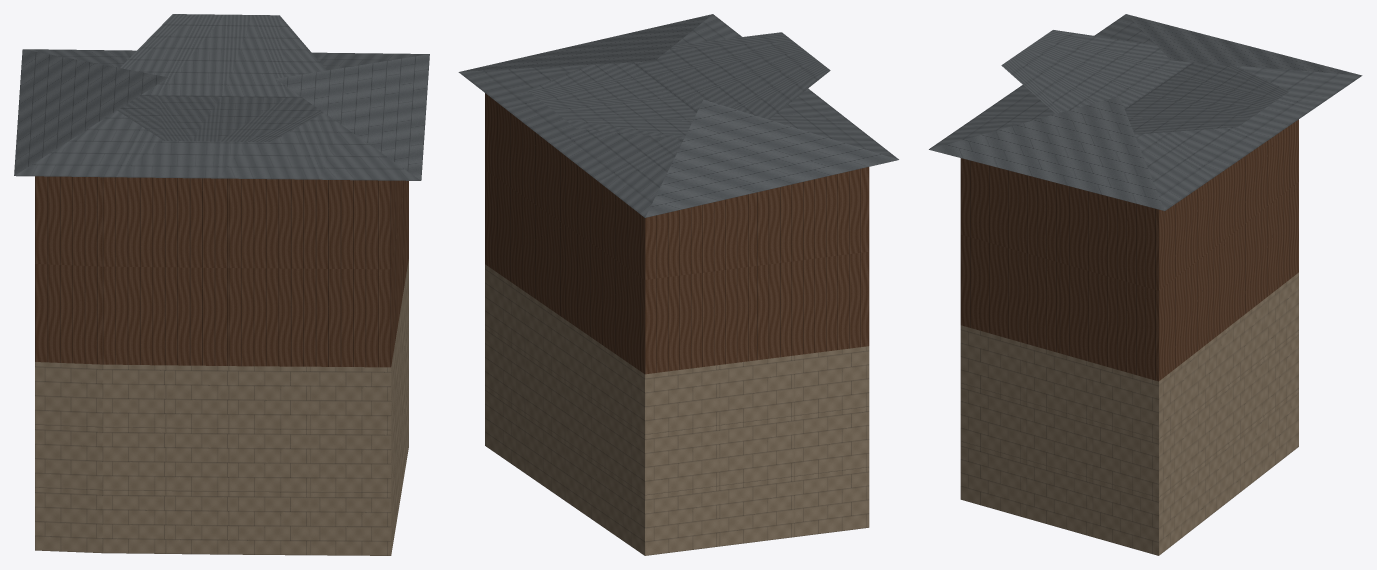
Rendered from bld_c42_31_269.gltf.
3 views of the same model, side by side, from view 1: azimuth 30°, elevation 25°; view 2: azimuth 150°, elevation 25°; view 3: azimuth 270°, elevation 25° (orthographic). The views are drawn at different scales.
Parts seen in each view (by area): view 1: bld_c42_31_269; view 2: bld_c42_31_269; view 3: bld_c42_31_269.
Boxes of the visible parts, left/top/right/bottom form: bld_c42_31_269: left=14, top=14, right=429, bottom=555; bld_c42_31_269: left=458, top=14, right=898, bottom=555; bld_c42_31_269: left=929, top=14, right=1362, bottom=555.
Size of the model in its own units: 12.37 by 11.4 by 11.51.
Materials: 3 (3 with a texture image).
